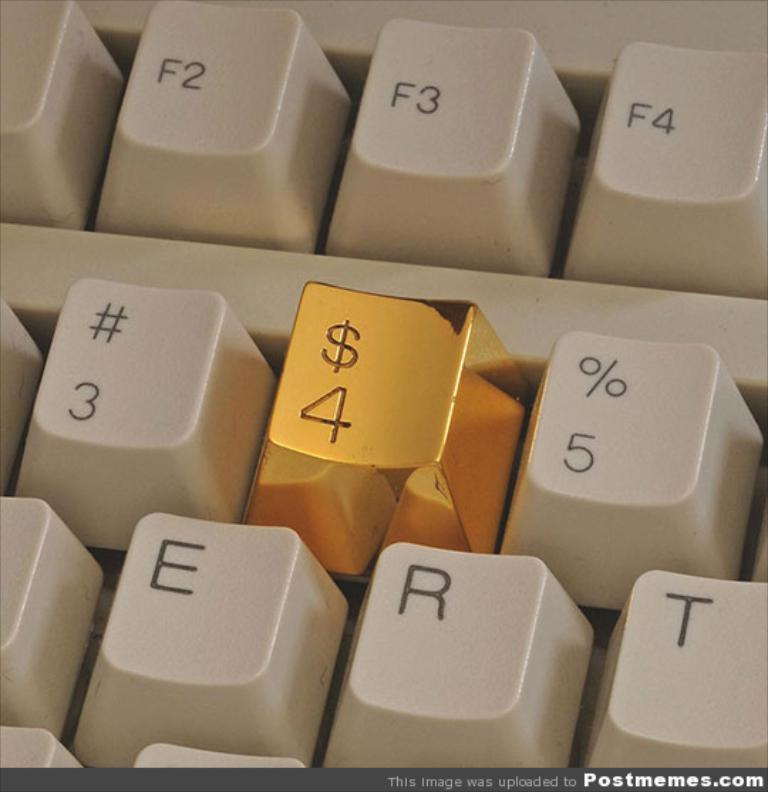Computer-keyboard: (0, 0, 767, 771)
